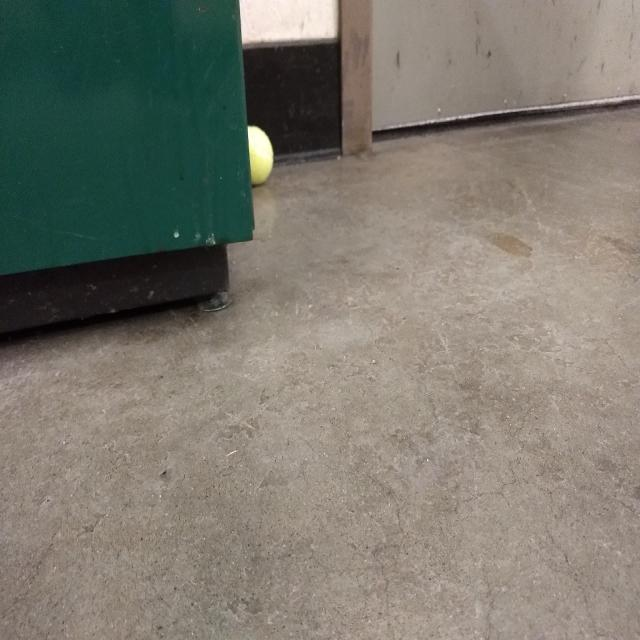Tennis-Ball: (224, 104, 291, 218)
